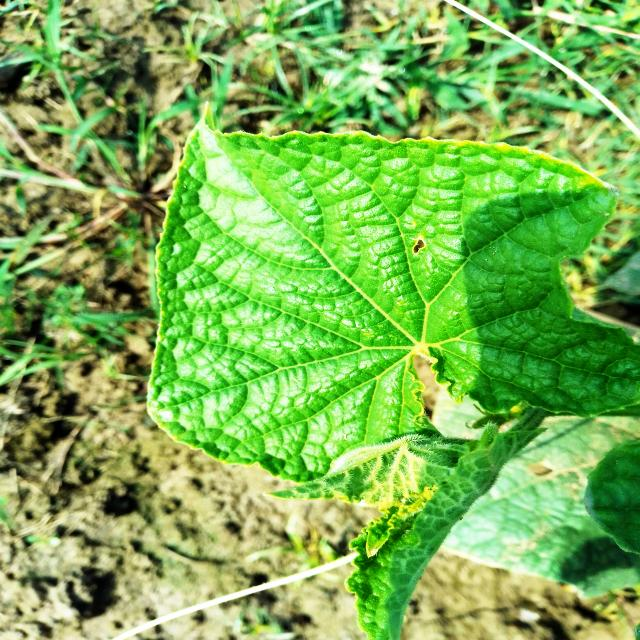Fresh-Leaf: (146, 99, 638, 477)
